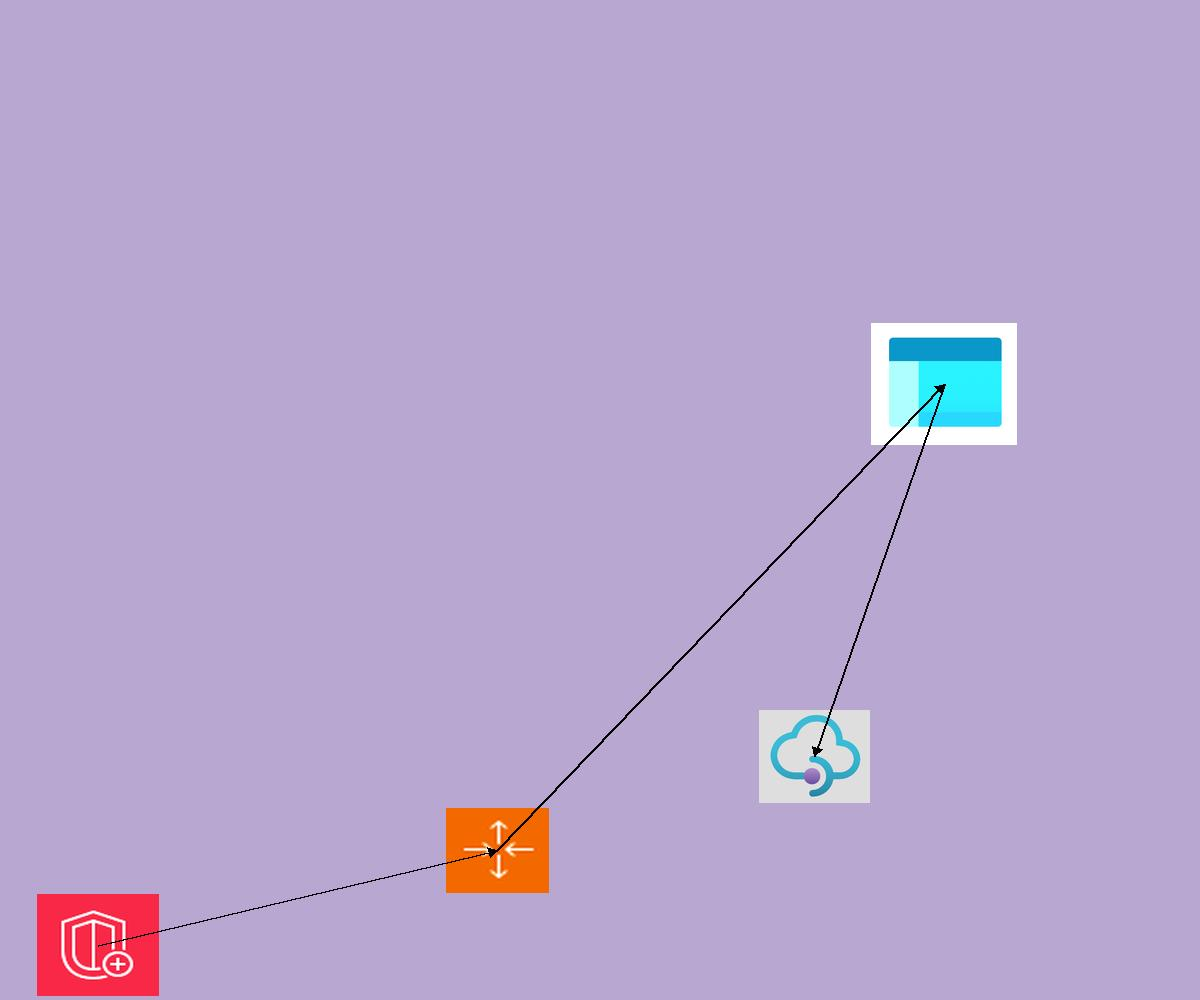AWS-Scaling-group: (446, 808, 549, 893)
AWS-Shield: (37, 894, 159, 996)
Azure_api_gateway: (759, 710, 870, 803)
Azure_management-portal: (871, 323, 1017, 445)
